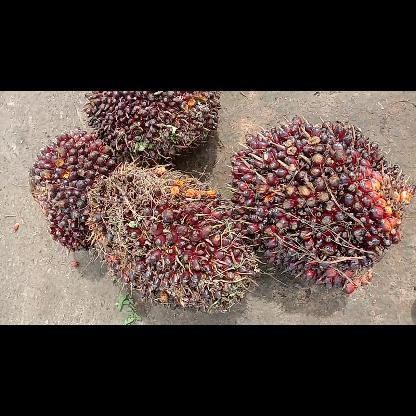Kurang masak: (227, 115, 415, 292), (92, 166, 260, 312), (28, 128, 118, 250), (80, 91, 219, 164)
